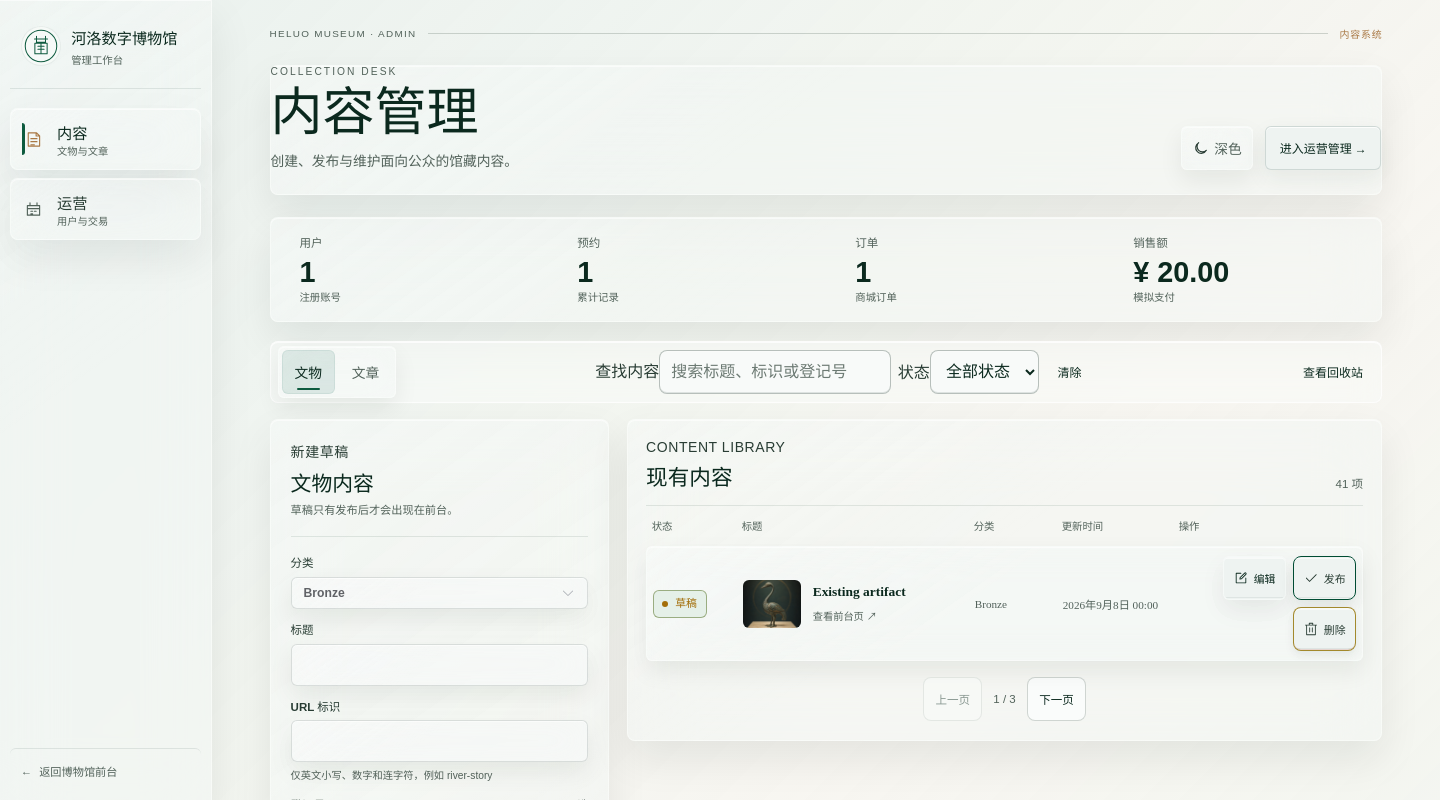
admin quality workflows › uses the active content total and restores independent filter/page state
The image size is (1440, 800).
Expected: the navigation bar with class "admin-pagination" shows "1 / 3", [993,693,1016,705]
In the search field labelled "查找内容": (775, 372) [659,350,891,394], type "bronze"
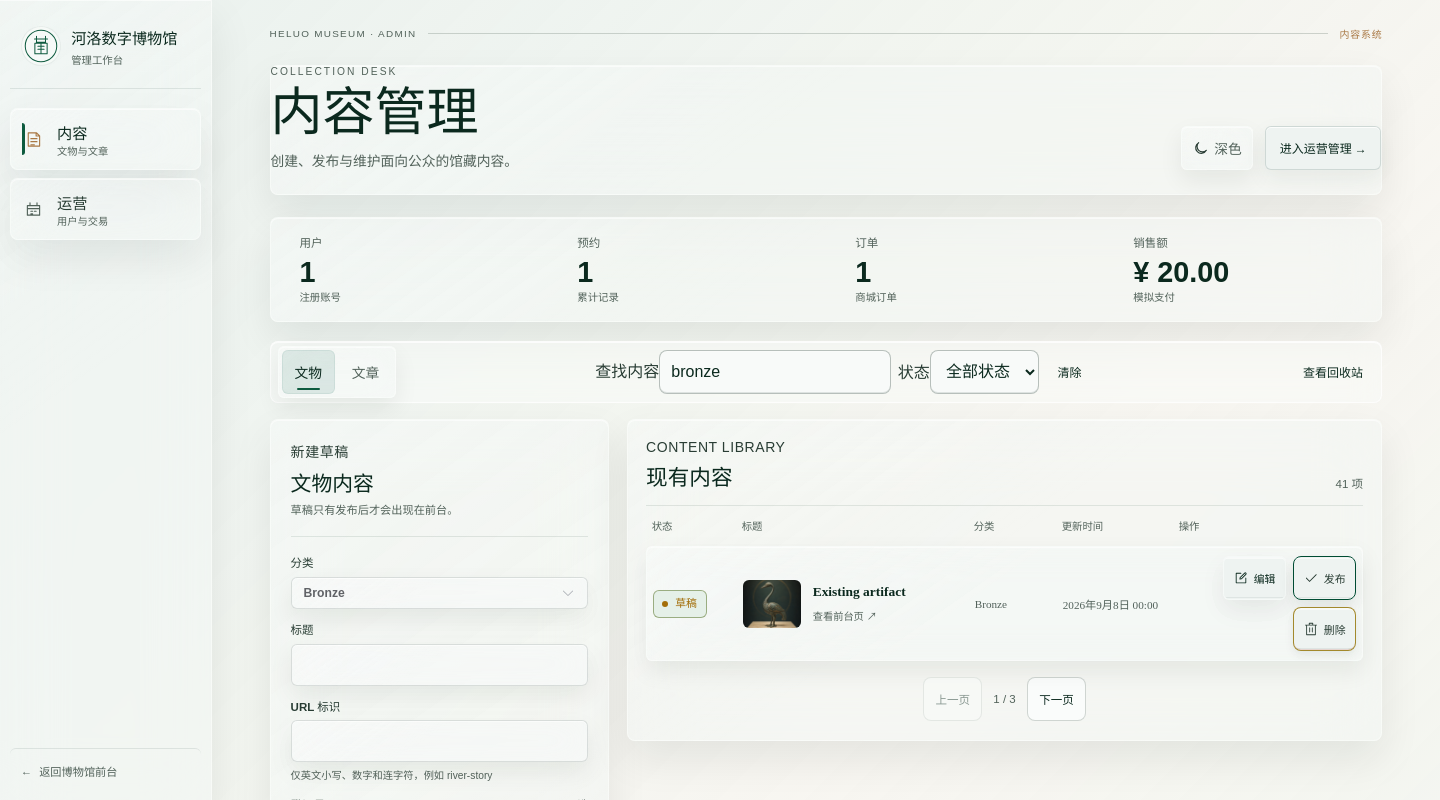
Press Enter in the search field labelled "查找内容", box [659,350,891,394]
Click the button "下一页": click(1056, 699) [1027,677,1086,721]
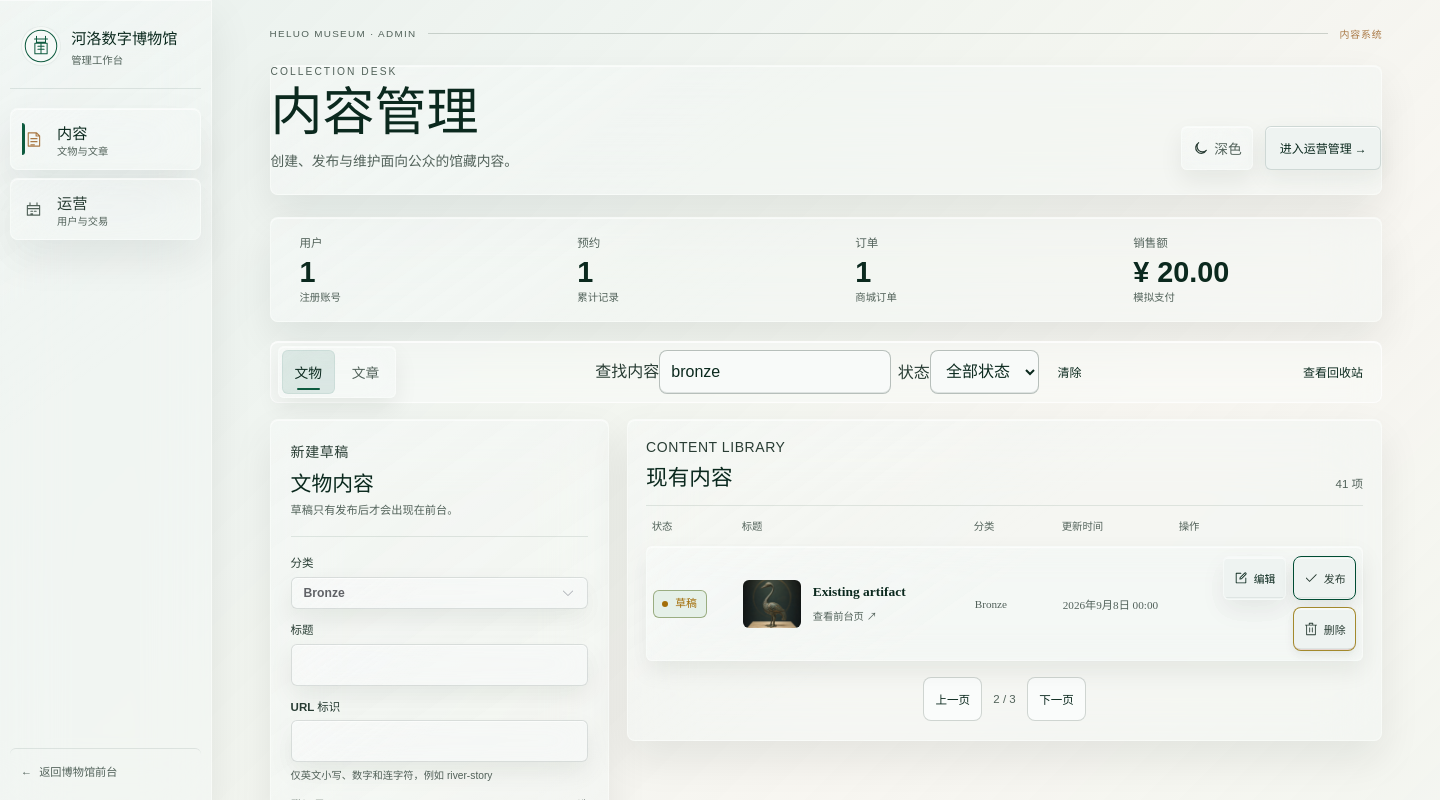
Click the tab "文章": click(365, 372) [339,350,392,394]
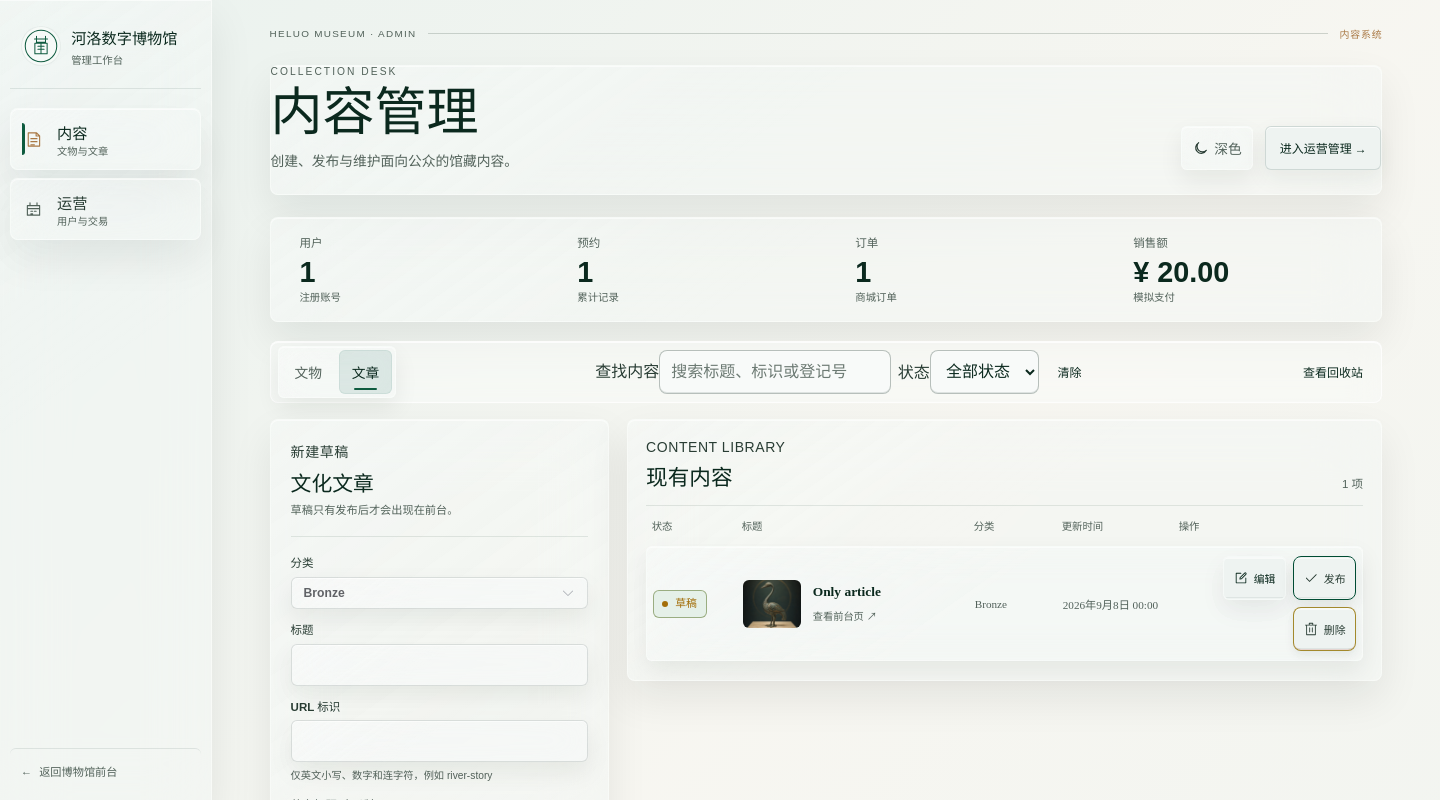
Expected: the search field labelled "查找内容" is empty, [659,350,891,394]
Expected: the text "Only article" is shown, [813,583,881,602]
Click the tab "文物": click(308, 372) [282,350,335,394]
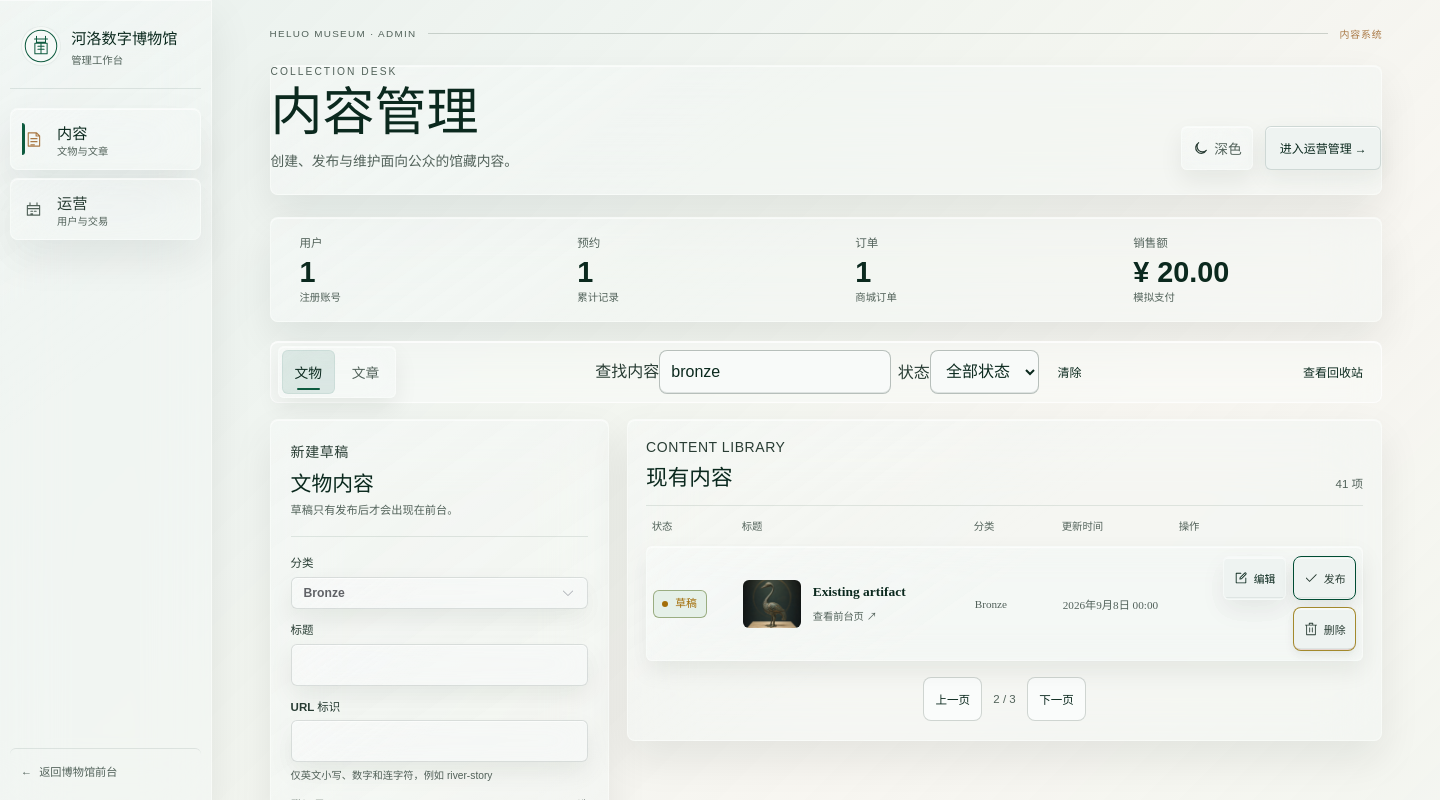
Expected: the navigation bar with class "admin-pagination" shows "2 / 3", [993,693,1016,705]
